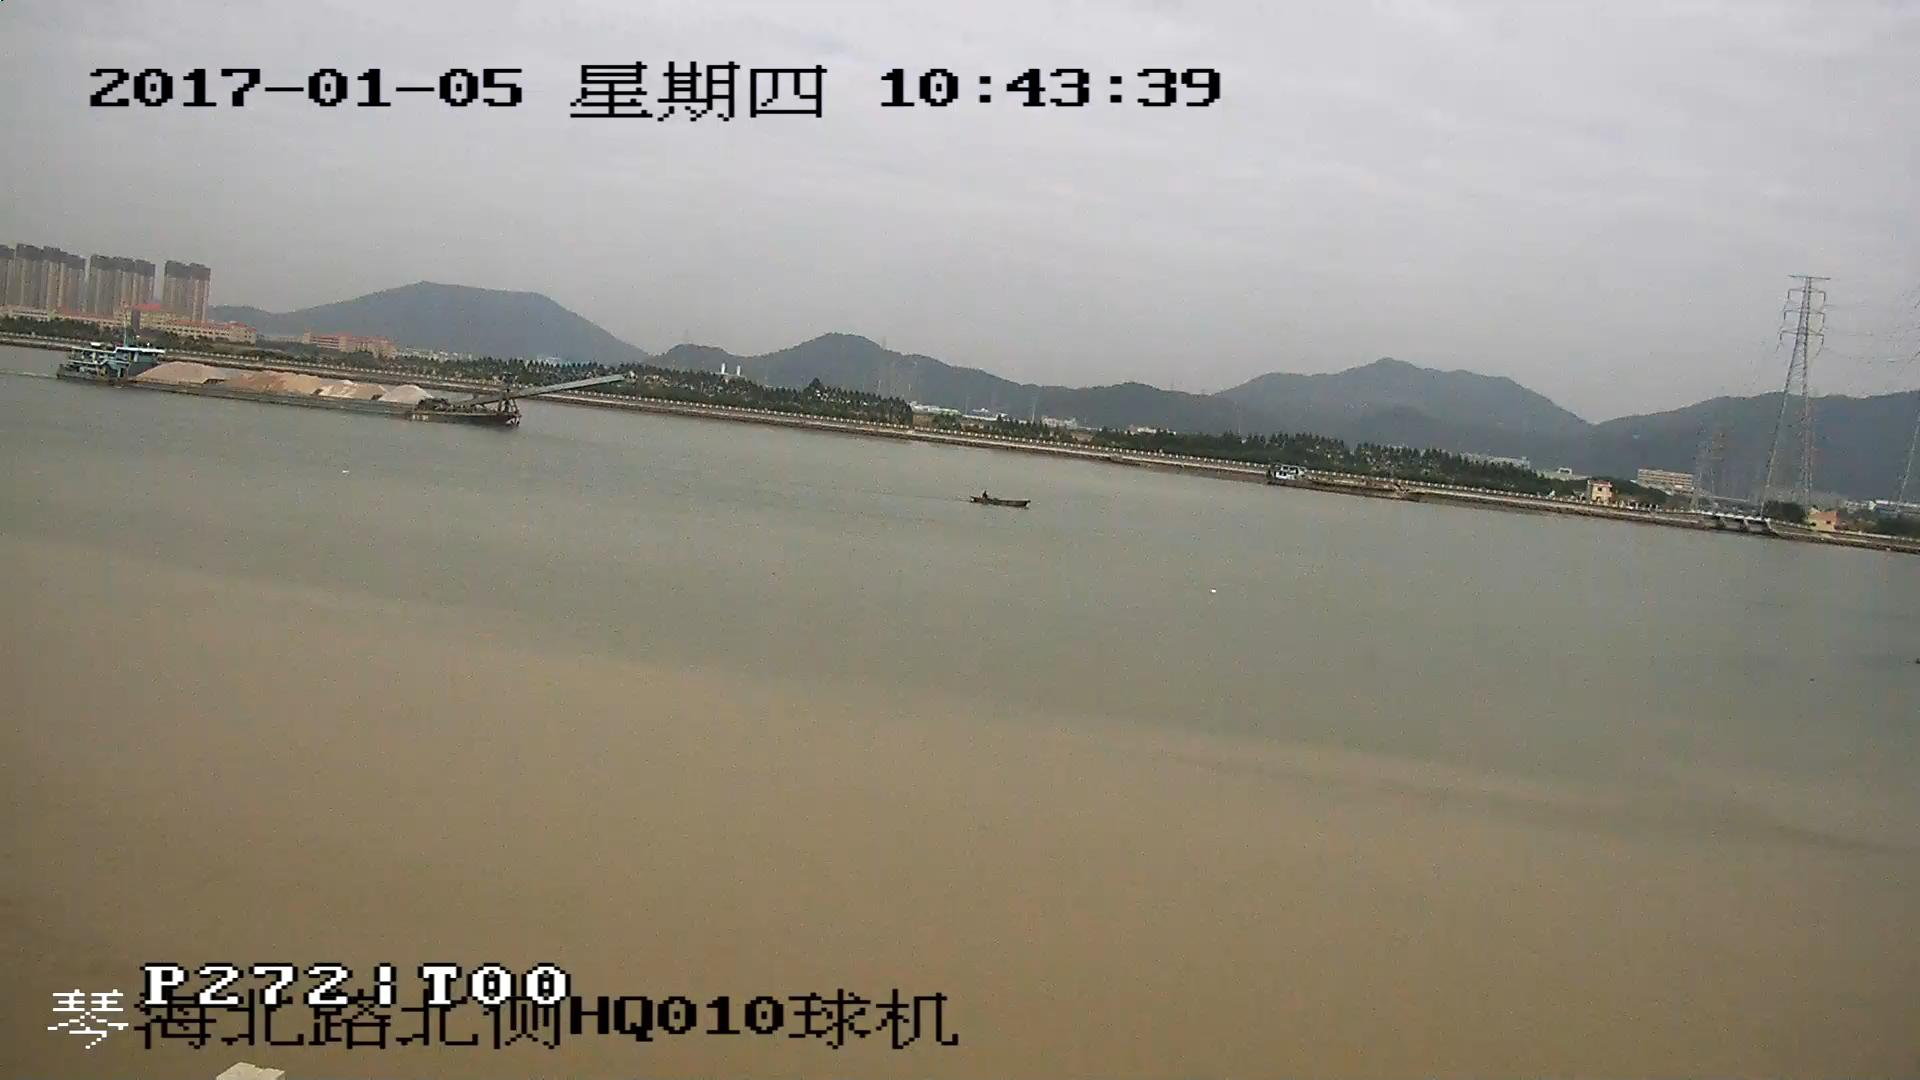fishing boat: (970, 492, 1040, 509)
ore carrier: (53, 341, 631, 421)
